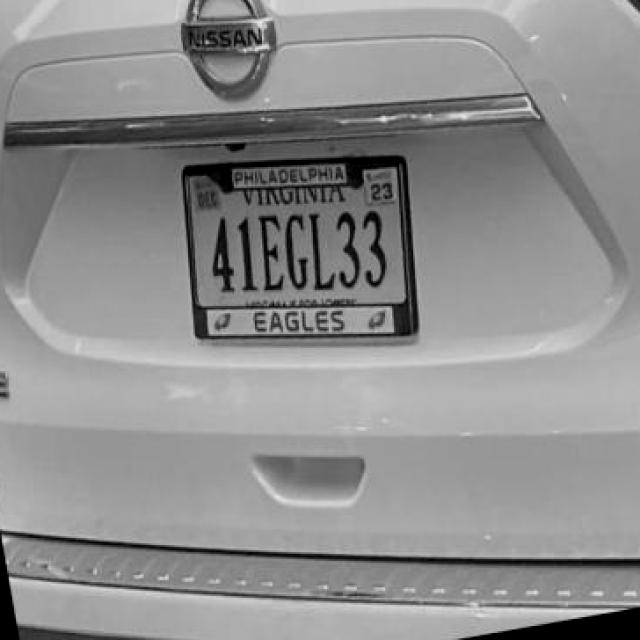licenseplate: (178, 148, 419, 350)
